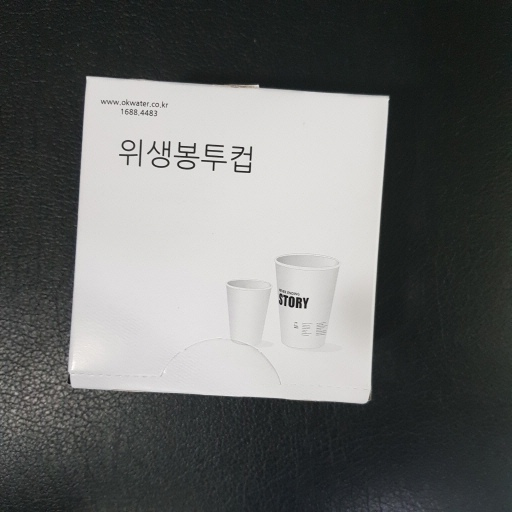Paper_0: (62, 55, 398, 421)
